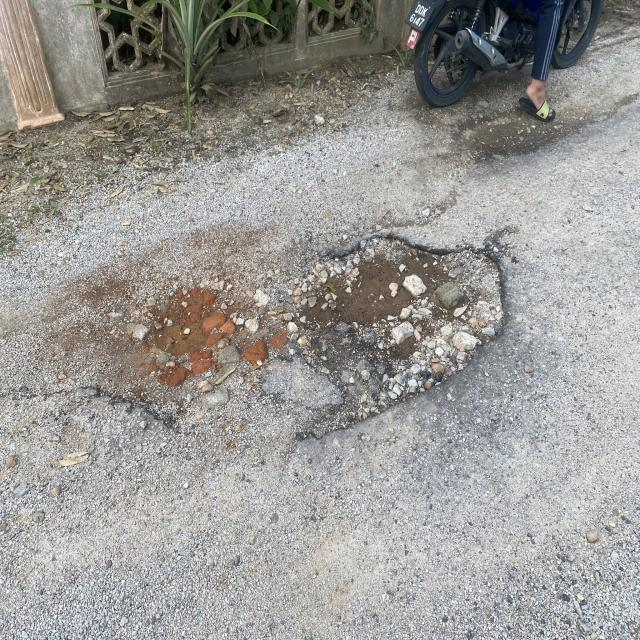Pothole: (64, 211, 577, 431)
